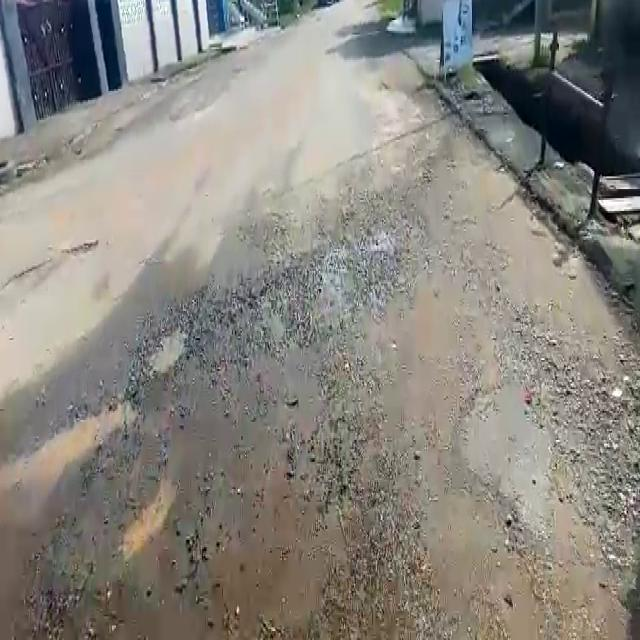Pothole: (148, 320, 188, 374)
